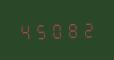eight: (63, 19, 77, 39)
five: (33, 20, 47, 40)
four: (18, 21, 32, 40)
two: (78, 19, 92, 38)
zero: (48, 20, 62, 39)
